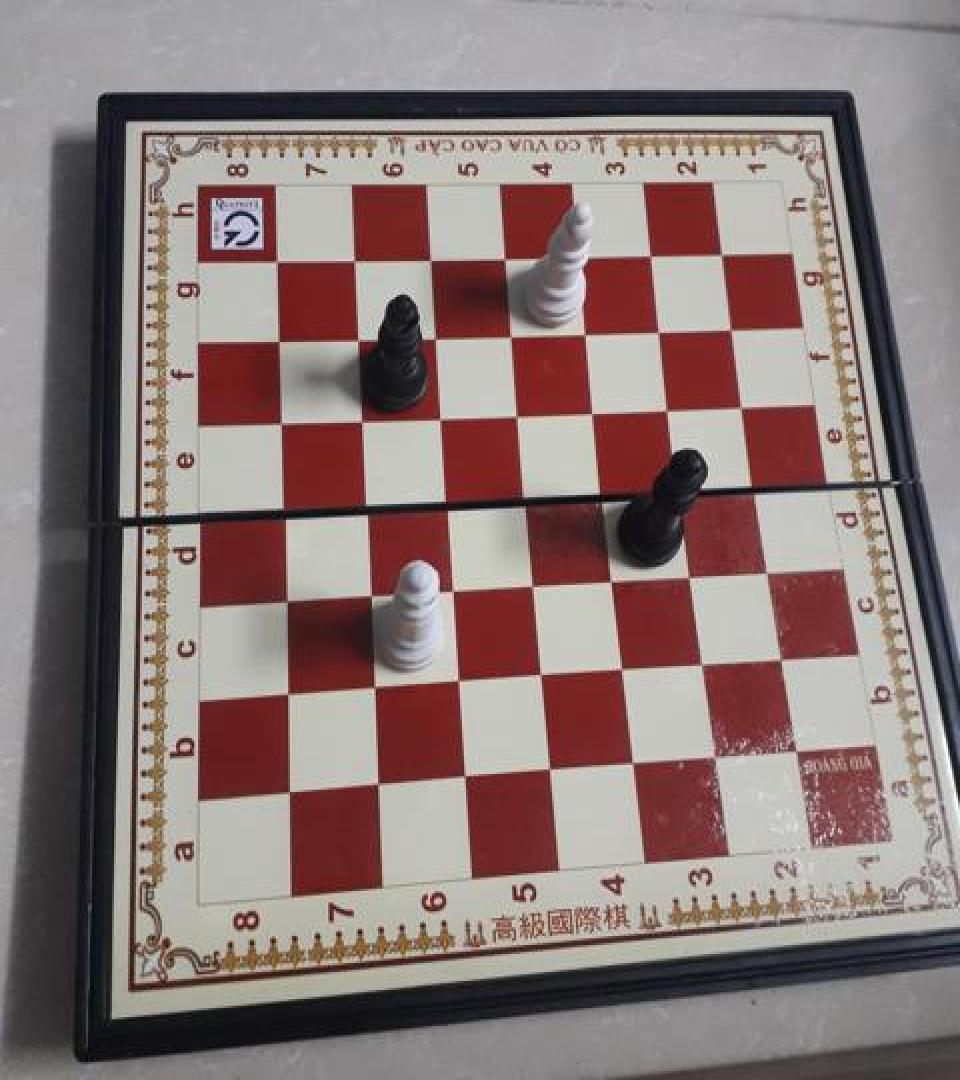xcorner: (455, 757, 483, 789), (540, 750, 568, 782), (623, 742, 651, 774), (784, 729, 812, 761), (363, 667, 391, 699), (448, 661, 476, 693), (613, 649, 641, 681), (692, 643, 720, 675), (770, 639, 798, 671), (274, 579, 302, 611), (442, 570, 470, 602), (603, 560, 631, 592), (757, 551, 785, 583), (272, 490, 300, 522), (355, 487, 383, 519), (515, 479, 543, 511), (670, 471, 698, 503), (744, 468, 772, 500), (269, 405, 297, 437), (430, 399, 458, 431), (508, 396, 536, 428), (659, 390, 687, 422), (732, 388, 760, 420), (267, 324, 295, 356), (424, 319, 452, 351), (501, 317, 529, 349), (575, 315, 603, 347), (265, 245, 293, 277), (343, 244, 371, 276), (419, 243, 447, 275), (710, 238, 738, 270), (279, 772, 307, 803), (368, 764, 396, 795), (704, 736, 732, 767), (277, 674, 305, 705), (531, 656, 559, 687), (359, 575, 387, 606), (523, 565, 551, 596), (681, 556, 709, 587), (436, 483, 464, 514), (593, 475, 621, 506), (351, 403, 379, 434), (584, 394, 612, 425), (347, 322, 375, 353), (649, 314, 677, 345), (721, 312, 749, 343), (494, 242, 522, 273), (567, 241, 595, 272), (639, 240, 667, 271)
